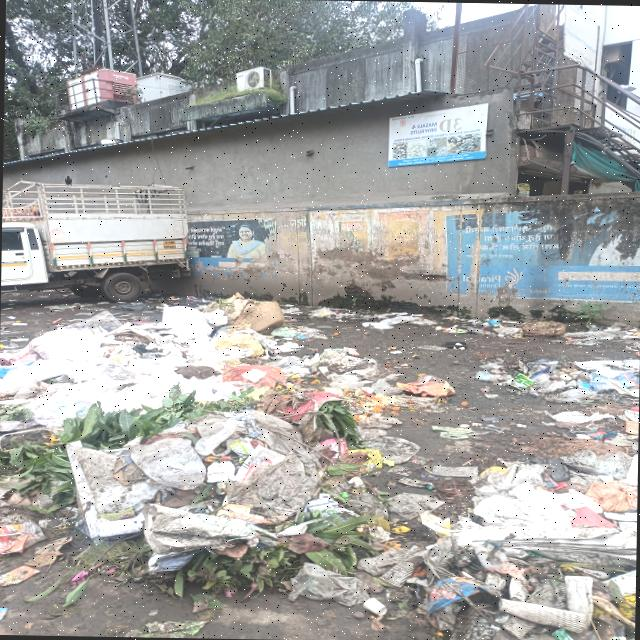garbage: (0, 302, 373, 591), (378, 317, 635, 640)
